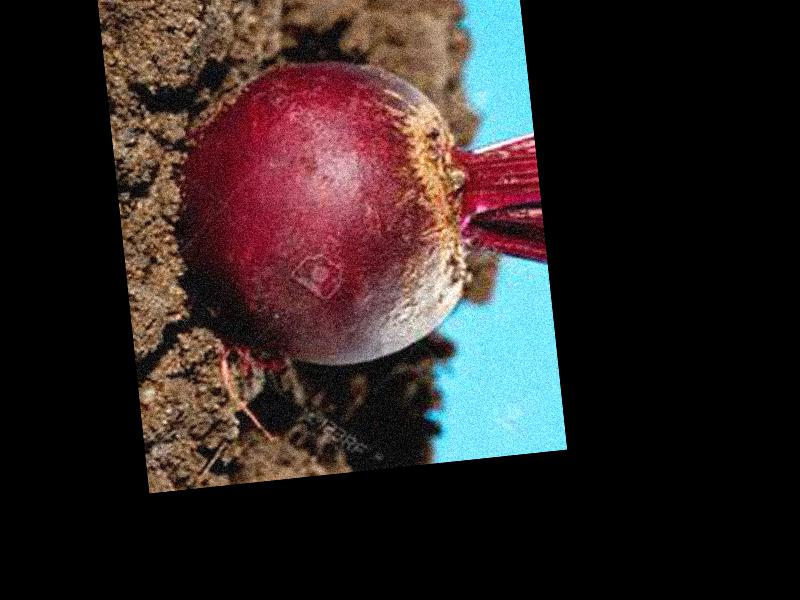Beet: (167, 41, 553, 382)
